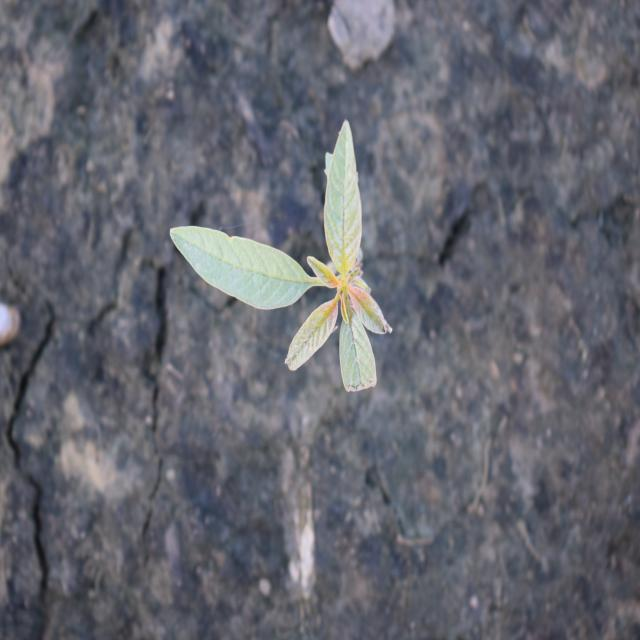Waterhemp: (168, 116, 395, 396)
